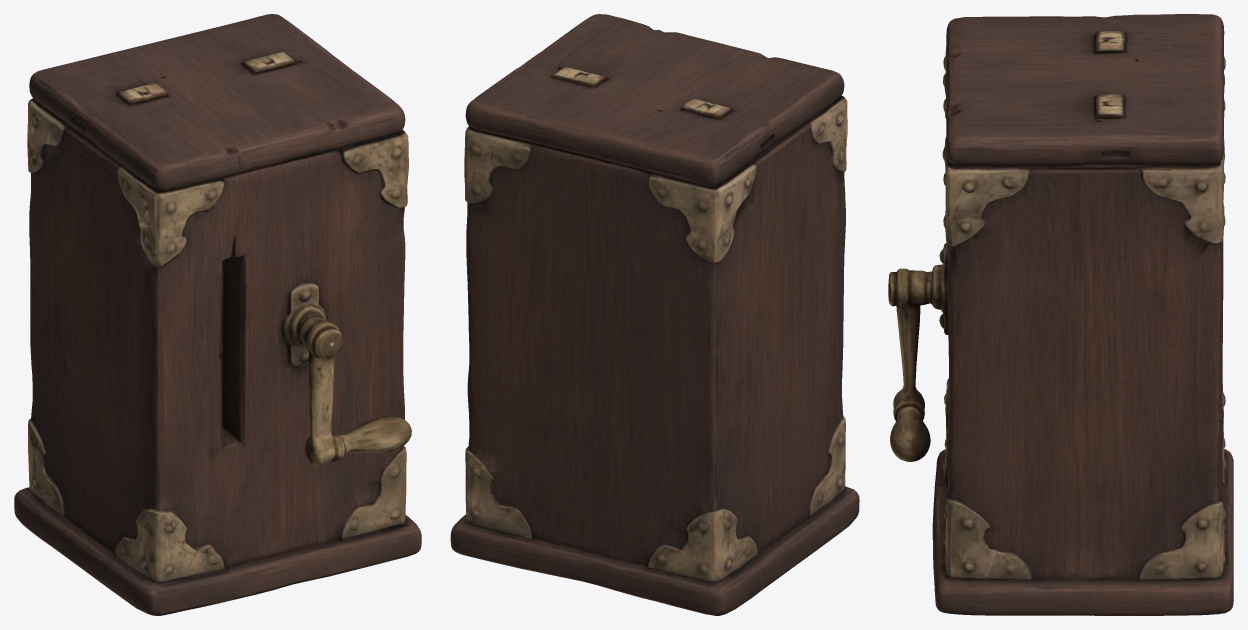
Rendered from S0-12_ticket_machine_A.glb.
The picture shows the model from 3 angles, left to right: view 1: azimuth 30°, elevation 25°; view 2: azimuth 150°, elevation 25°; view 3: azimuth 270°, elevation 25°; orthographic projection. The views are drawn at different scales.
Parts seen in each view (by area): view 1: geometry_0; view 2: geometry_0; view 3: geometry_0.
Boxes of the visible parts, x1,y1,x2,y2 form: geometry_0: (14,14,421,615); geometry_0: (450,14,859,615); geometry_0: (888,14,1233,615).
Bounding box in the file's own units: 0.1621 × 0.25 × 0.1648.
Materials: 1 (1 with a texture image).
